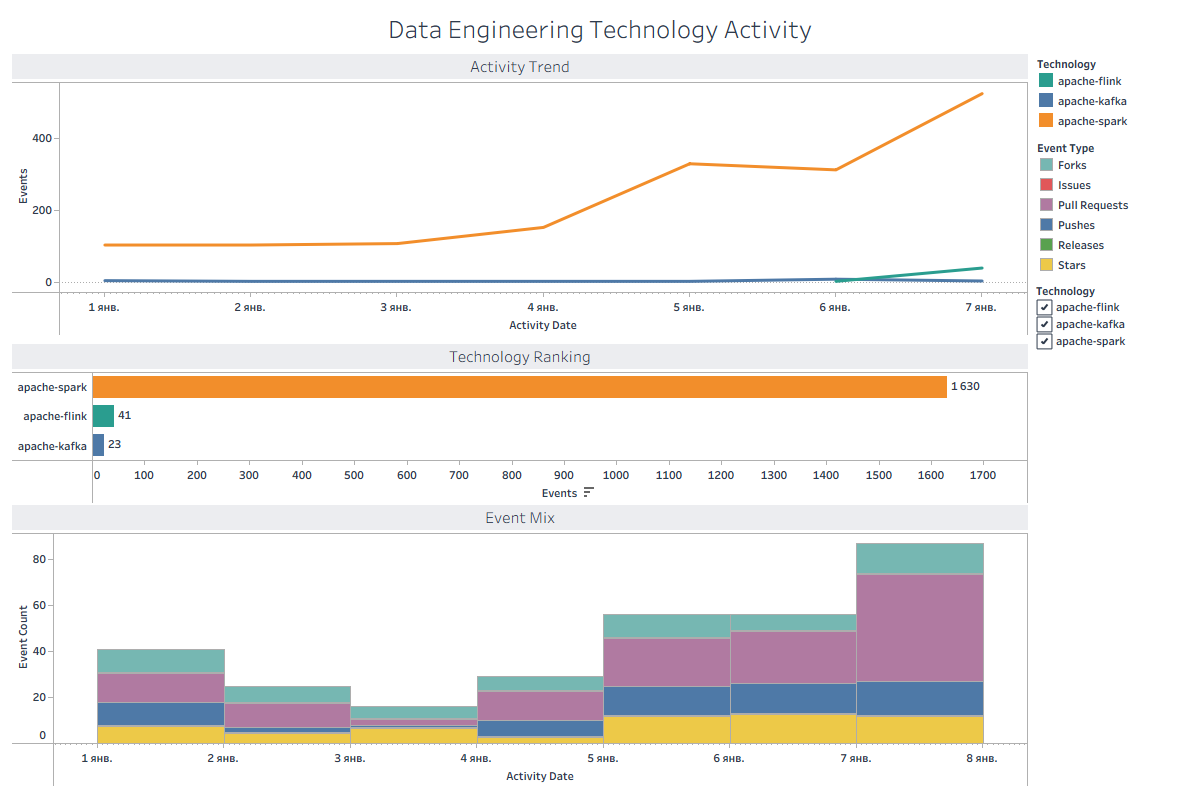

What the dashboard file says about the page in this screenshot:
{"tool":"tableau","page":{"name":"Technology Activity Overview","canvas":[1200,800],"ordinal":0},"visuals":[{"type":"title","box":[8,8,1184,42]},{"type":"worksheet","title":"Activity Trend","mark":"Line","rows":["event_count"],"cols":["activity_date"],"box":[8,50,1024,290.5]},{"type":"legend","title":"Activity Trend","param":"[federated.0w9x2wc1jaqdy41d934p2115da16].[none:technology_id:nk]","box":[1032,50,160,84]},{"type":"legend","title":"Event Mix","param":"[federated.0w9x2wc1jaqdy41d934p2115da16].[:Measure Names]","box":[1032,134,160,144]},{"type":"filter","title":"Event Mix","param":"[federated.0w9x2wc1jaqdy41d934p2115da16].[none:technology_id:nk]","box":[1032,278,160,102]},{"type":"worksheet","title":"Technology Ranking","mark":"Bar","rows":["technology_id"],"cols":["event_count"],"box":[8,340.5,1024,161]},{"type":"worksheet","title":"Event Mix","mark":"Bar","cols":["activity_date"],"box":[8,501.5,1024,290.5]}]}

Visuals, with their boxes in screenshot pixels (x1, y1, x2, y2), scaled from the page's 1200x800 canvas onto the 1200x800 screenshot:
title: region(8, 8, 1192, 50)
"Activity Trend" worksheet (Line marks): region(8, 50, 1032, 340)
"Activity Trend" legend: region(1032, 50, 1192, 134)
"Event Mix" legend: region(1032, 134, 1192, 278)
"Event Mix" filter: region(1032, 278, 1192, 380)
"Technology Ranking" worksheet (Bar marks): region(8, 340, 1032, 502)
"Event Mix" worksheet (Bar marks): region(8, 502, 1032, 792)
